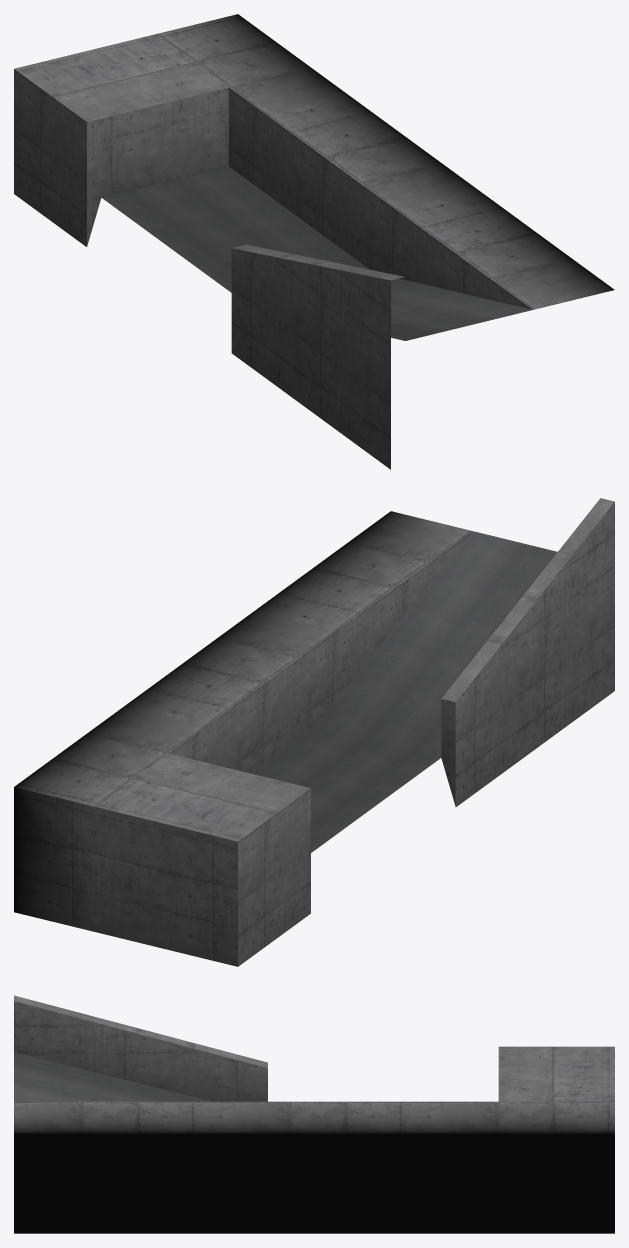
Rendered from KH_HUMUKIRI_OBJ00.glb.
3 views of the same model, one above another, from view 1: azimuth 30°, elevation 25°; view 2: azimuth 150°, elevation 25°; view 3: azimuth 270°, elevation 25° (orthographic). The views are drawn at different scales.
Visible parts, largest first — view 1: obj6; view 2: obj6; view 3: obj6.
Boxes of the visible parts, x1,y1,x2,y2 form: obj6: [14, 14, 614, 469]; obj6: [14, 498, 614, 966]; obj6: [14, 995, 614, 1233].
Bounding box in the file's own units: 11.14 × 9 × 32.46.
Materials: 2 (2 with a texture image).
